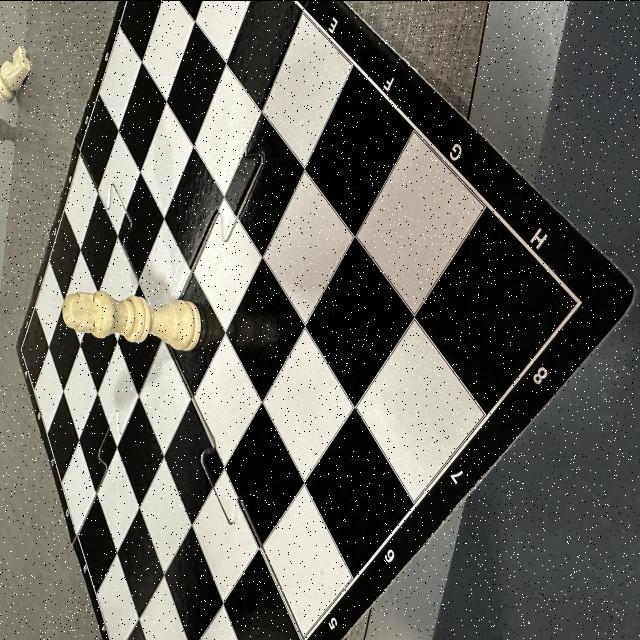White-King: (62, 289, 202, 351)
White-Knight: (0, 44, 31, 104)
